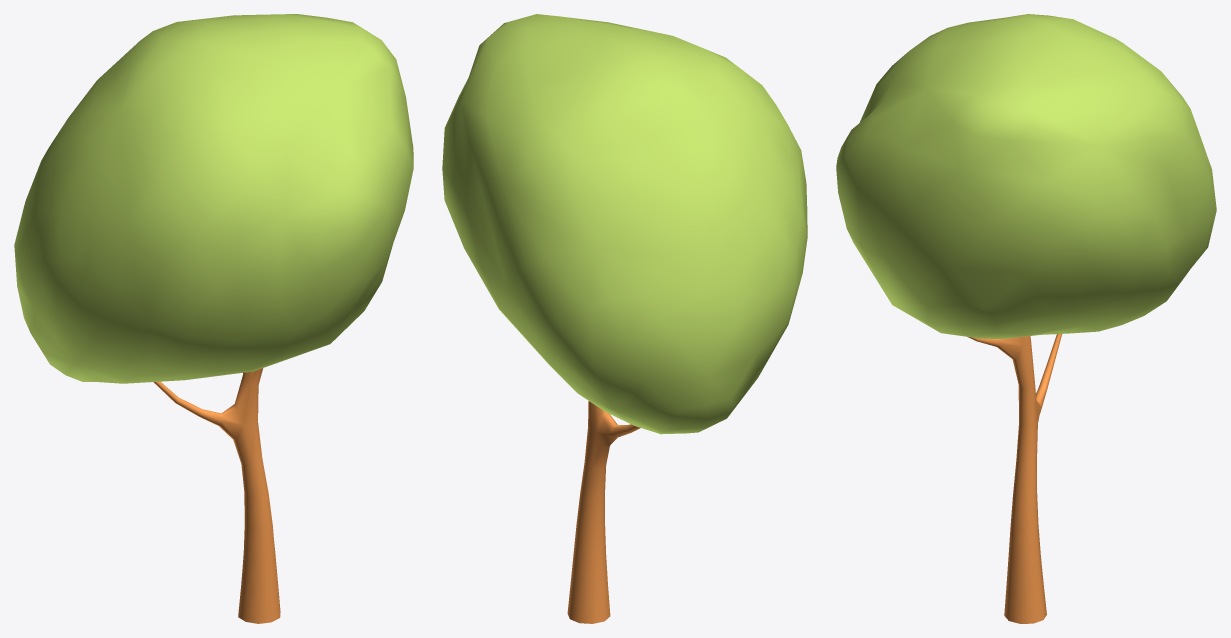
The model's file is Tree_J.fbx.
3 views of the same model, side by side, from view 1: azimuth 30°, elevation 25°; view 2: azimuth 150°, elevation 25°; view 3: azimuth 270°, elevation 25° (orthographic). The views are drawn at different scales.
Parts seen in each view (by area): view 1: Oak_Tree_m_03; view 2: Oak_Tree_m_03; view 3: Oak_Tree_m_03.
Part boxes in pixels (bbox=[...]): Oak_Tree_m_03: bbox=[14, 14, 413, 623]; Oak_Tree_m_03: bbox=[442, 14, 807, 623]; Oak_Tree_m_03: bbox=[836, 14, 1216, 623].
Bounding box in the file's own units: 454 × 763 × 461.
